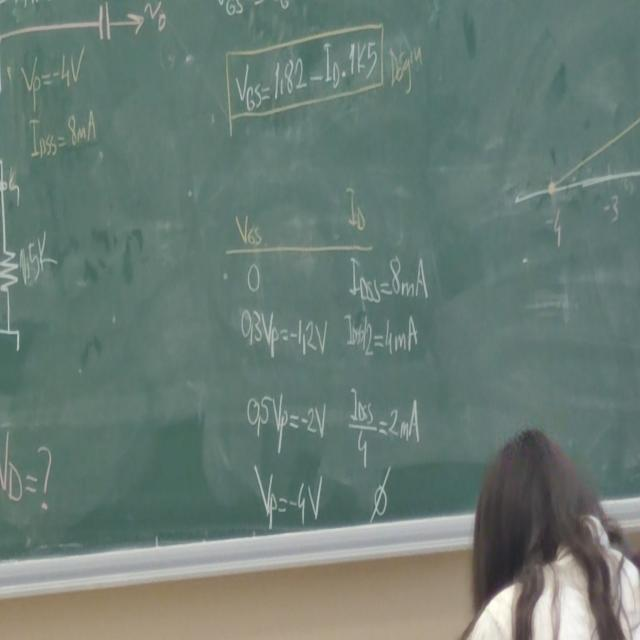image: (506, 90, 640, 227)
math: (228, 31, 389, 130), (14, 46, 112, 157), (342, 374, 431, 471), (244, 455, 329, 535), (236, 298, 334, 366), (240, 381, 332, 441), (344, 246, 434, 306), (339, 302, 425, 363), (16, 229, 58, 288)
